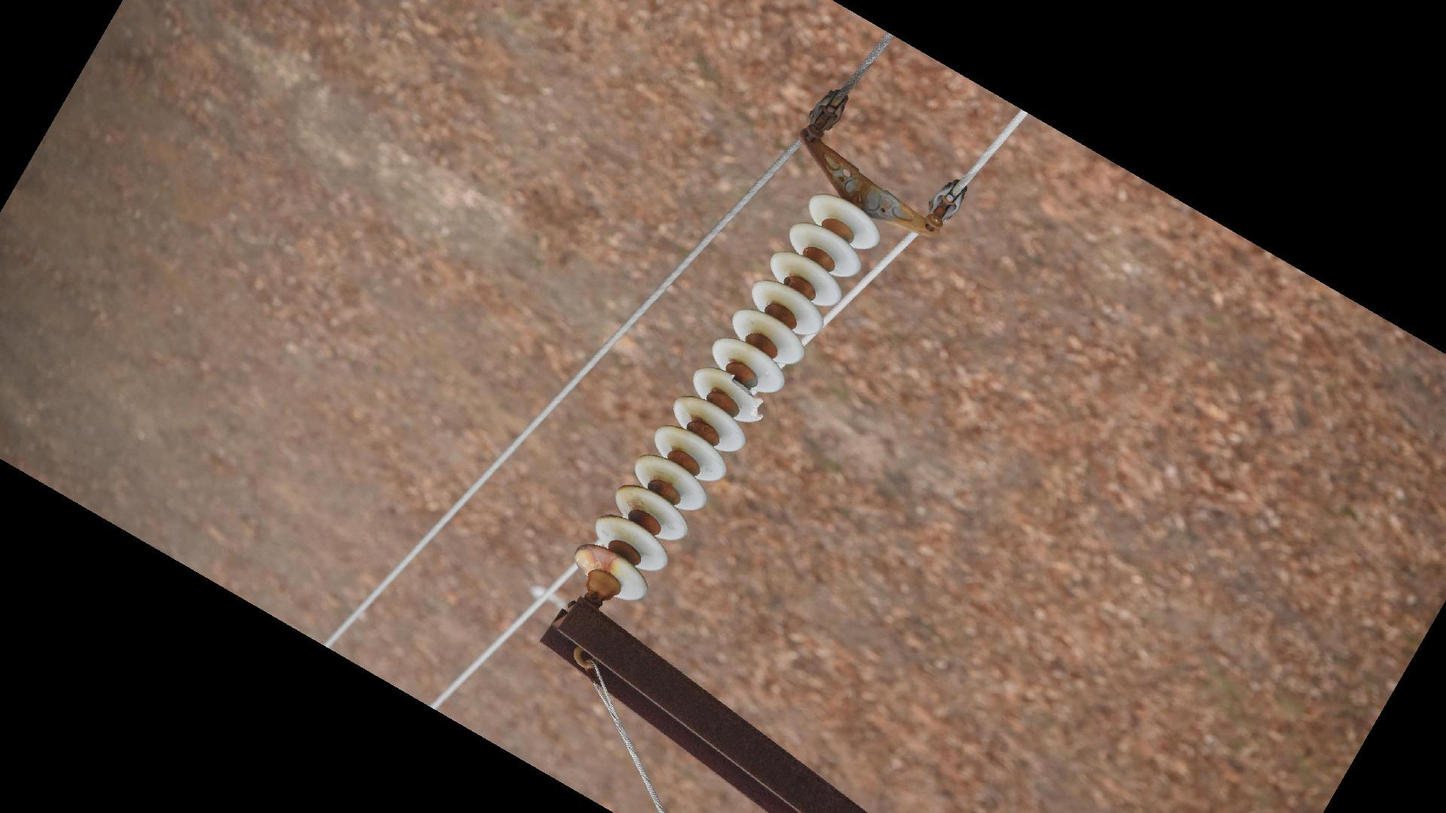insulator: (568, 188, 884, 607)
insulator_breakage: (725, 368, 770, 426)
